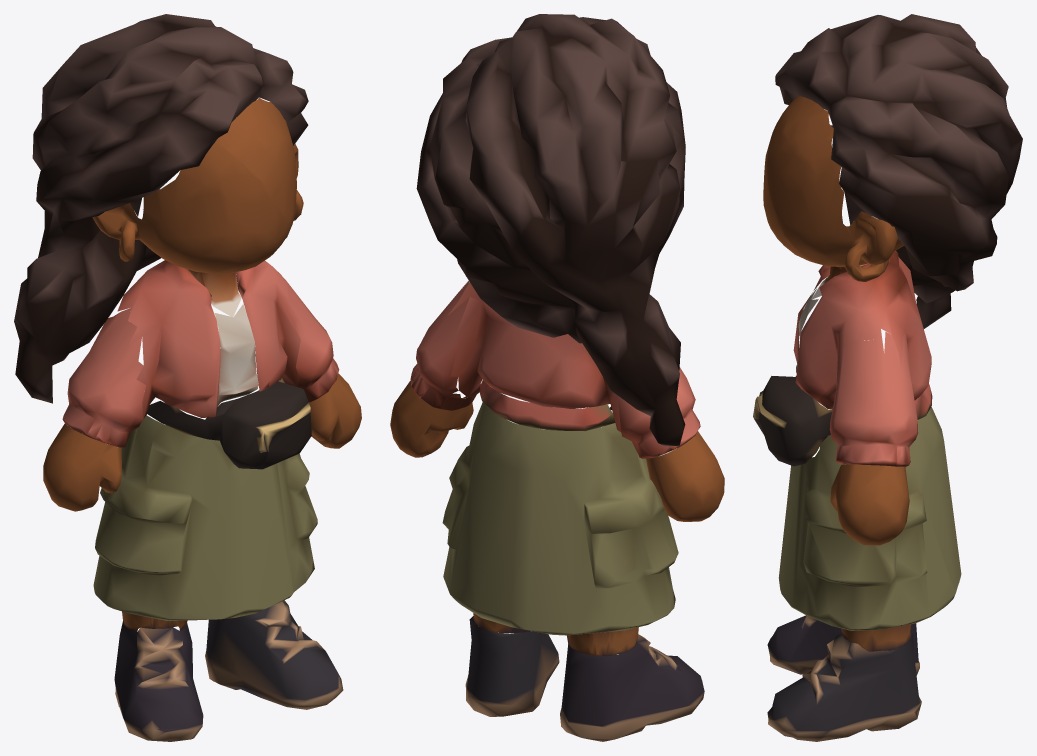
3 renders of one model, left to right at view 1: azimuth 30°, elevation 25°; view 2: azimuth 150°, elevation 25°; view 3: azimuth 270°, elevation 25°, orthographic. The views are drawn at different scales.
Visible parts, largest first — view 1: hair, bottom, top, head, shoe_l, shoe_r, sleeve_r, hand_r, sleeve_l, hand_l, acc_body_0; view 2: hair, bottom, top, shoe_r, shoe_l, hand_r, sleeve_l, hand_l, sleeve_r, acc_body_0; view 3: hair, bottom, top, head, shoe_l, sleeve_l, hand_l, shoe_r.
Boxes of the visible parts, x1=… form: hair: x1=14, y1=14, x2=308, y2=403; bottom: x1=93, y1=415, x2=317, y2=620; top: x1=117, y1=260, x2=311, y2=469; head: x1=92, y1=97, x2=303, y2=273; shoe_l: x1=205, y1=600, x2=343, y2=709; shoe_r: x1=114, y1=621, x2=203, y2=741; sleeve_r: x1=62, y1=307, x2=146, y2=447; hand_r: x1=43, y1=423, x2=121, y2=511; sleeve_l: x1=282, y1=276, x2=339, y2=402; hand_l: x1=309, y1=373, x2=361, y2=448; acc_body_0: x1=122, y1=611, x2=187, y2=632; hair: x1=416, y1=14, x2=685, y2=446; bottom: x1=442, y1=402, x2=678, y2=635; top: x1=448, y1=282, x2=621, y2=432; shoe_r: x1=560, y1=634, x2=704, y2=741; shoe_l: x1=465, y1=616, x2=559, y2=716; hand_r: x1=646, y1=431, x2=724, y2=521; sleeve_l: x1=410, y1=280, x2=476, y2=410; hand_l: x1=390, y1=381, x2=473, y2=457; sleeve_r: x1=617, y1=367, x2=700, y2=458; acc_body_0: x1=567, y1=627, x2=638, y2=656; hair: x1=775, y1=14, x2=1022, y2=328; bottom: x1=778, y1=406, x2=961, y2=651; top: x1=753, y1=251, x2=932, y2=466; head: x1=763, y1=96, x2=903, y2=281; shoe_l: x1=767, y1=632, x2=921, y2=741; sleeve_l: x1=829, y1=329, x2=918, y2=467; hand_l: x1=830, y1=464, x2=909, y2=545; shoe_r: x1=767, y1=615, x2=919, y2=675.
Bounding box in the file's own units: 0.4969 × 1.03 × 0.3788.
